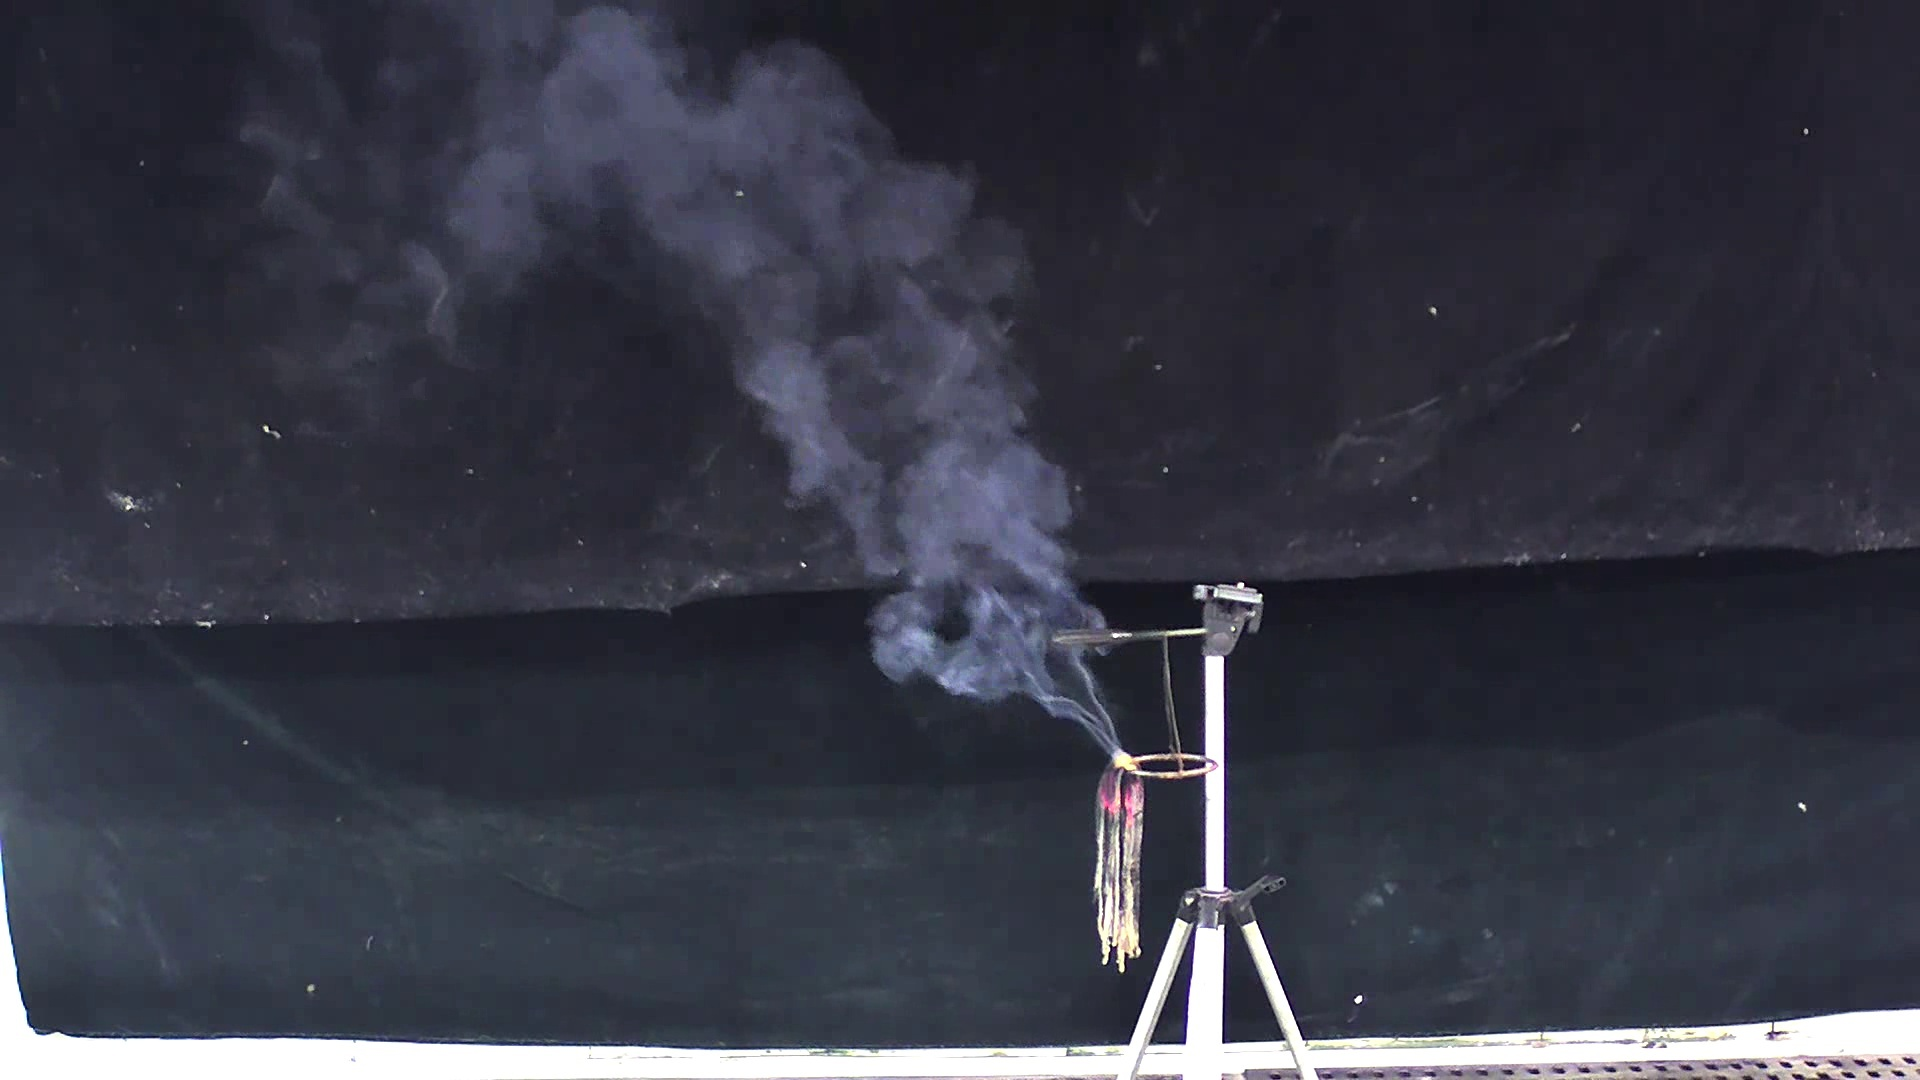smoke: (262, 7, 1135, 770)
